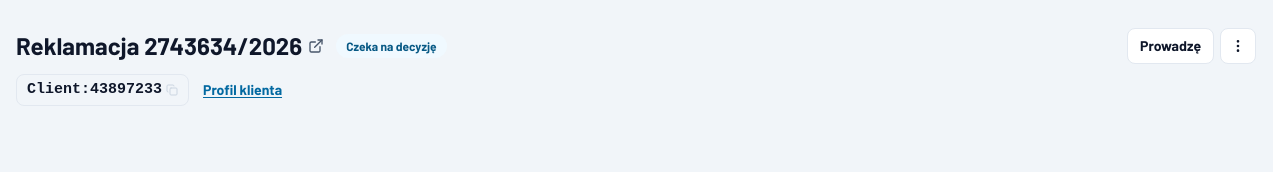
Scenario: Menu „⋮”: rzadkie czynności na jawne kliknięcie › pytania o przesyłkę w menu nie ma — stoi raz, przy przesyłce
This screenshot has width=1273, height=172.
Click the button named "Więcej działań". click: x=1238, y=46
box: [1220,28,1256,64]
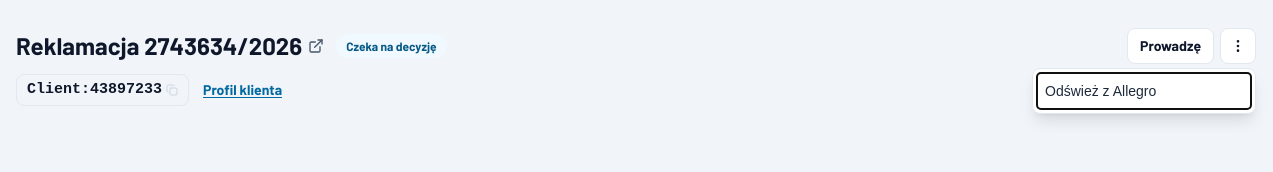
Expected: the number of menu items is 1, [1037,73,1251,109]
